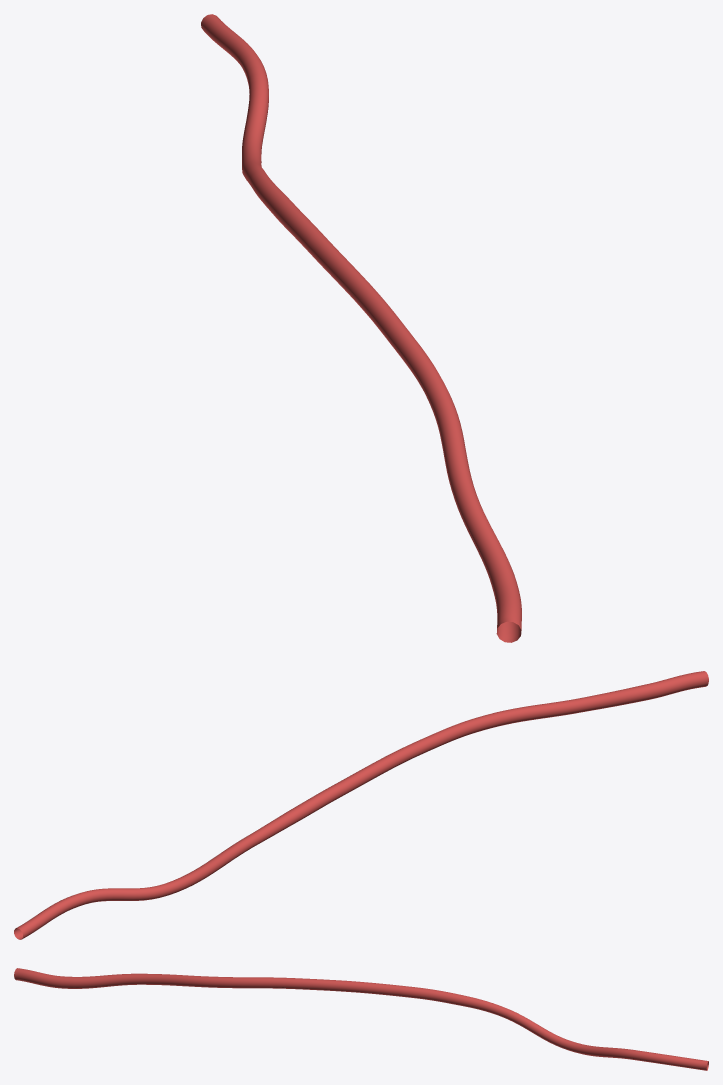
3 renders of one model, top to bottom at view 1: azimuth 30°, elevation 25°; view 2: azimuth 150°, elevation 25°; view 3: azimuth 270°, elevation 25°, orthographic. The views are drawn at different scales.
Parts seen in each view (by area): view 1: 左侧肱动脉; view 2: 左侧肱动脉; view 3: 左侧肱动脉.
Part boxes in pixels (box(x1,y1,x2,y2)): 左侧肱动脉: box(201, 14, 521, 642); 左侧肱动脉: box(14, 671, 708, 939); 左侧肱动脉: box(14, 968, 708, 1070).
Bounding box in the file's own units: 0.1384 × 0.0269 × 0.4072.
